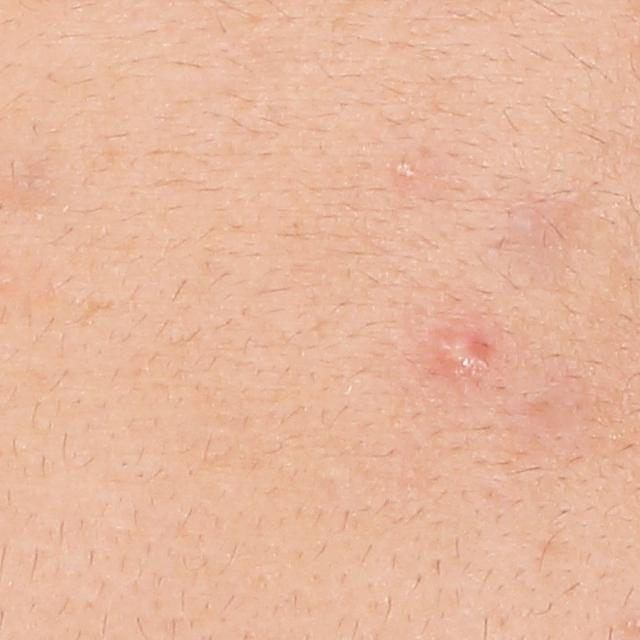papule: (436, 328, 489, 375)
